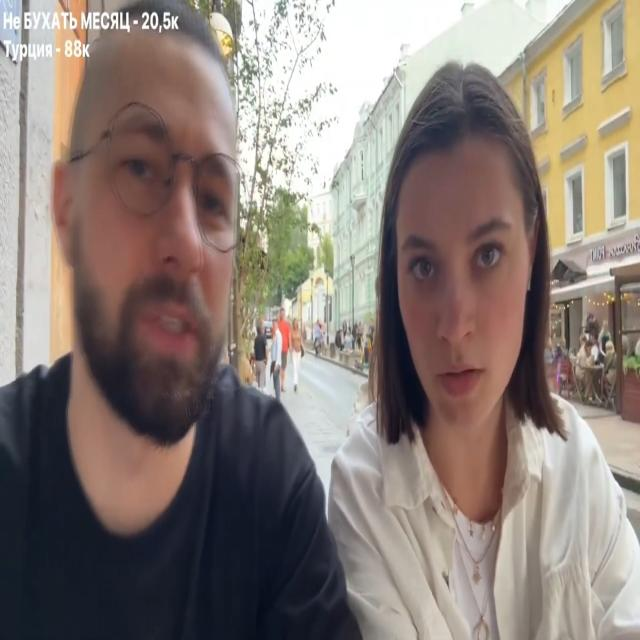Person: (0, 38, 368, 640), (300, 81, 640, 638), (575, 335, 602, 406), (282, 315, 305, 395), (253, 325, 272, 392), (603, 340, 621, 407)
